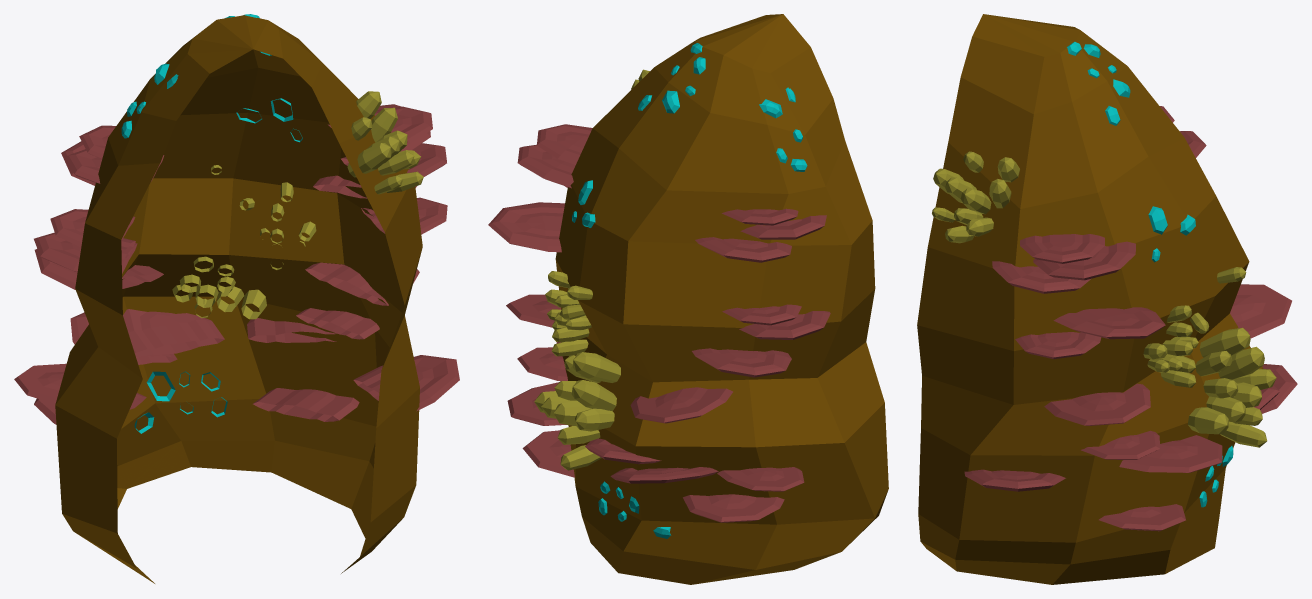
File: Big rock 1.fbx
The picture shows the model from 3 angles, left to right: view 1: azimuth 30°, elevation 25°; view 2: azimuth 150°, elevation 25°; view 3: azimuth 270°, elevation 25°; orthographic projection. The views are drawn at different scales.
Parts seen in each view (by area): view 1: group37_pSphere132; view 2: group37_pSphere132; view 3: group37_pSphere132.
Boxes of the visible parts, x1,y1,x2,y2 form: group37_pSphere132: (14, 14, 459, 583); group37_pSphere132: (488, 14, 888, 584); group37_pSphere132: (917, 14, 1297, 584).
Bounding box in the file's own units: 5.04 × 6.62 × 4.5.
